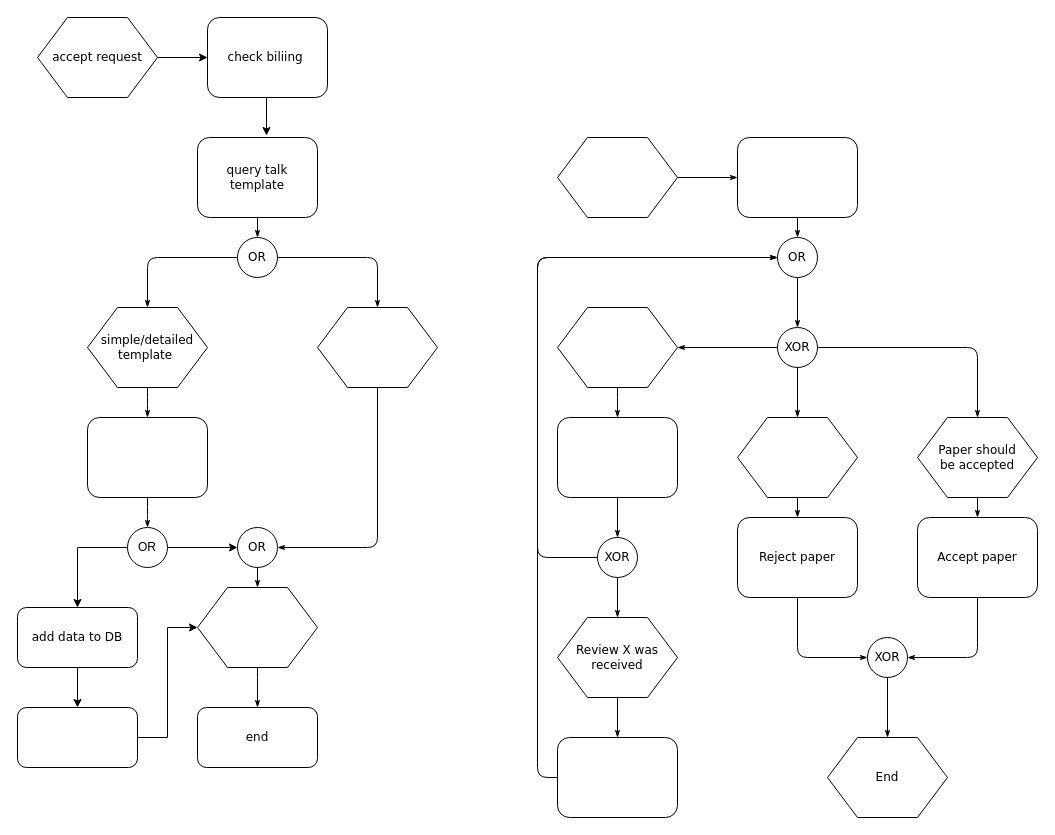
Some shapes in this 1055 by 835 pixel diagram are drawn without their labels. Here are the shapes that lost their labels. From the top down, the box of each, then its label:
(556, 136, 678, 218): listen insert data bus
(316, 306, 438, 388): not configured template
(556, 306, 678, 388): Additional review is needed
(86, 416, 208, 498): validate params
(556, 416, 678, 498): Invite additional reviewer
(736, 416, 858, 498): Paper should be rejected
(196, 586, 318, 668): build response
(16, 706, 138, 768): deduct billing
(556, 736, 678, 818): Combine review X with others
